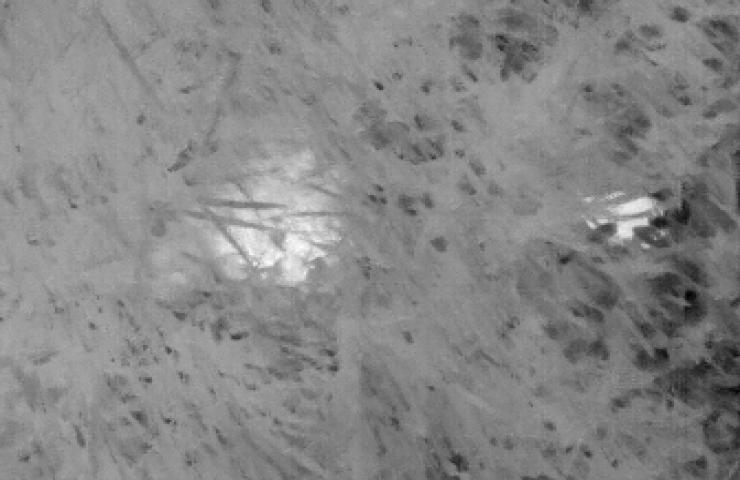landmines: (203, 162, 343, 284)
